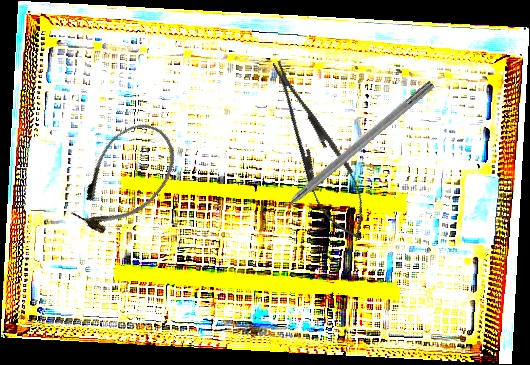Cannula: (58, 110, 191, 248)
Hook Surgical: (266, 78, 436, 223)
Needle Holder: (255, 51, 381, 250)
